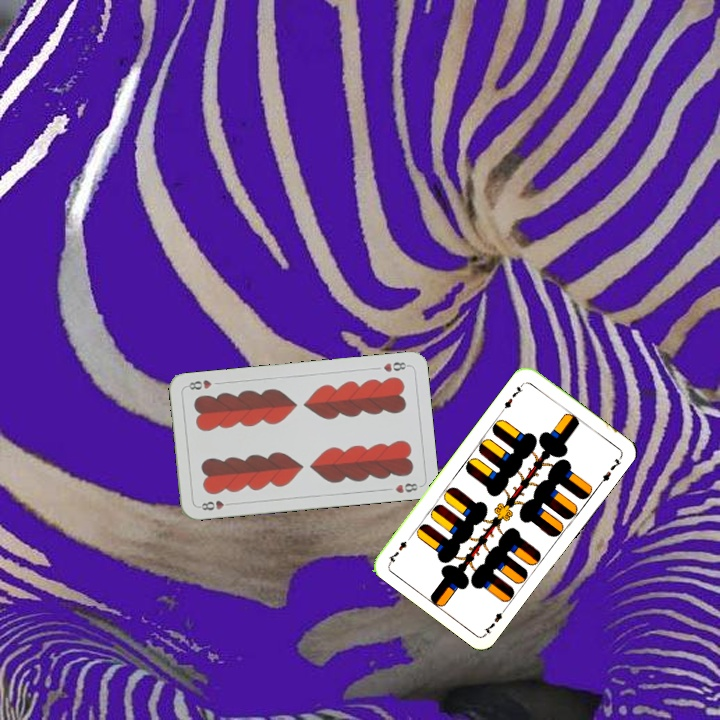E7: (480, 602, 510, 637), (498, 379, 527, 414)
H8: (195, 496, 235, 513), (379, 358, 411, 375)
